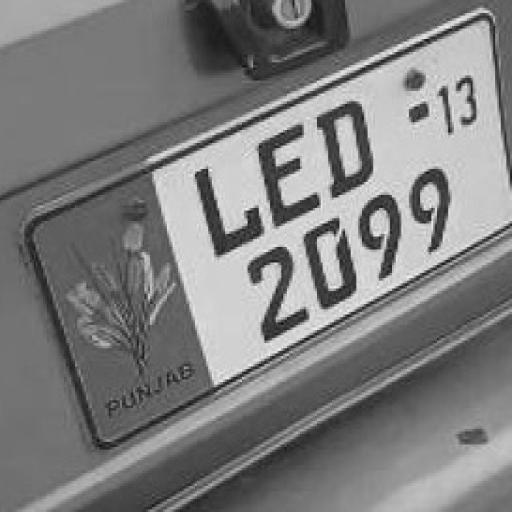0: (305, 223, 352, 301)
2: (249, 256, 306, 329)
9: (398, 174, 462, 256), (354, 190, 402, 282)
D: (315, 104, 377, 190)
E: (256, 130, 317, 222)
L: (191, 162, 260, 253)
